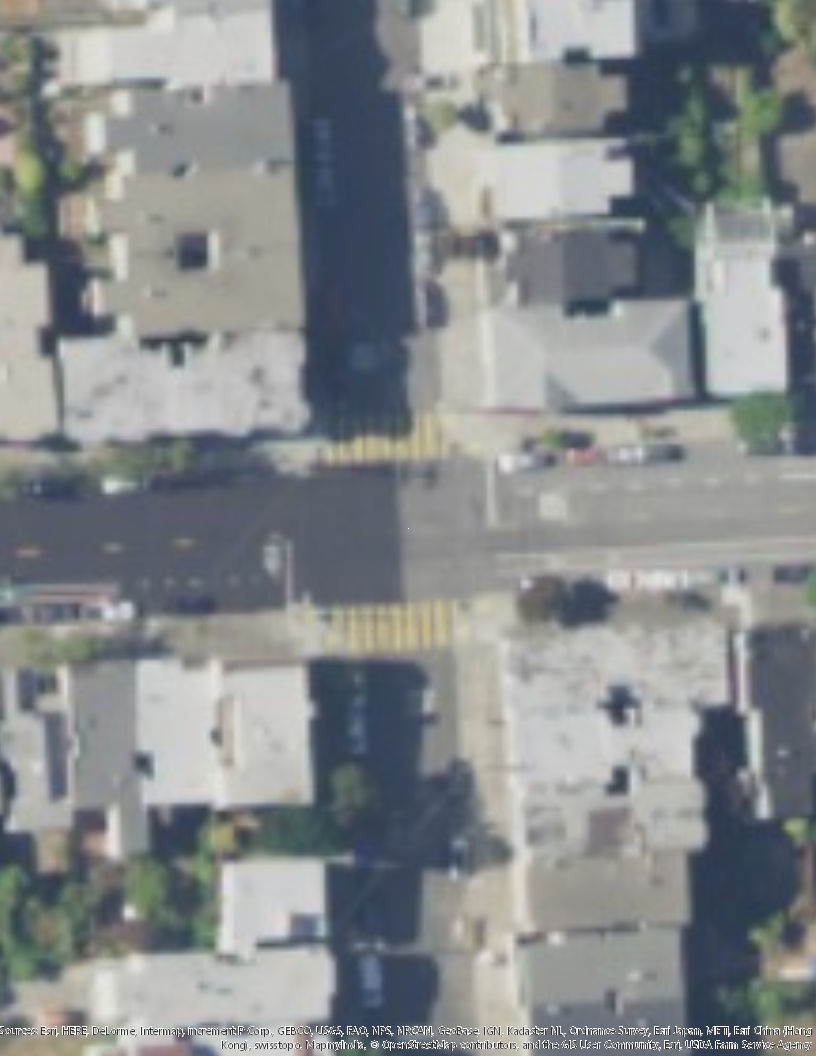zebracross: (313, 595, 474, 658), (317, 410, 459, 465)
